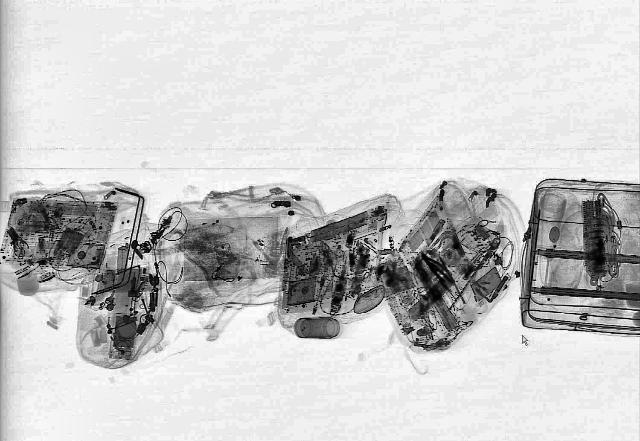Pliers: (419, 258, 458, 292)
